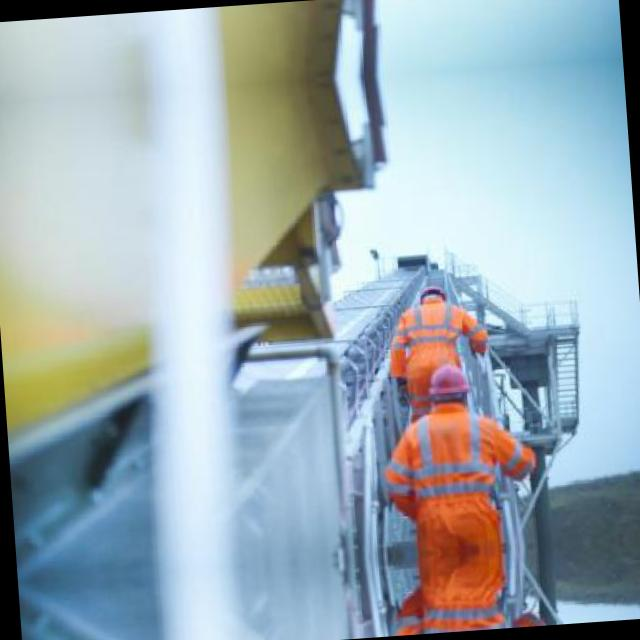helmet: (426, 356, 470, 414), (413, 280, 446, 308)
